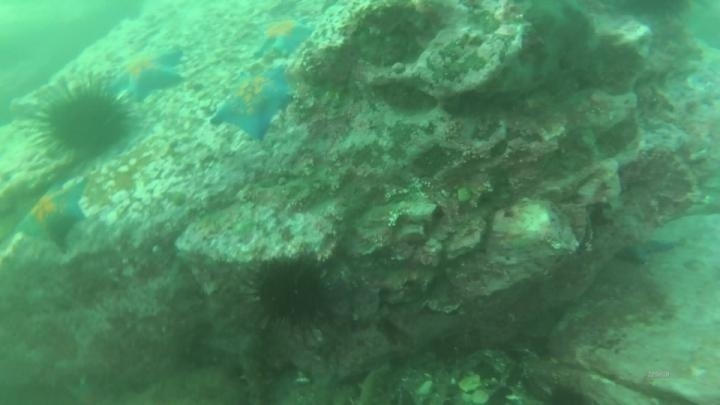echinus: (36, 82, 134, 162), (247, 252, 336, 332), (606, 1, 692, 27)
holothurian: (235, 338, 275, 405), (353, 361, 396, 405)
starfish: (209, 65, 295, 142), (16, 176, 91, 252), (104, 44, 187, 103), (253, 13, 314, 58), (609, 231, 680, 267)
